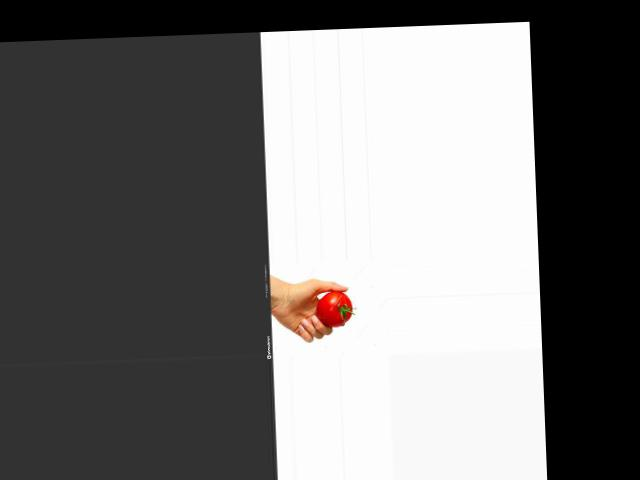tomato: (315, 290, 353, 326)
